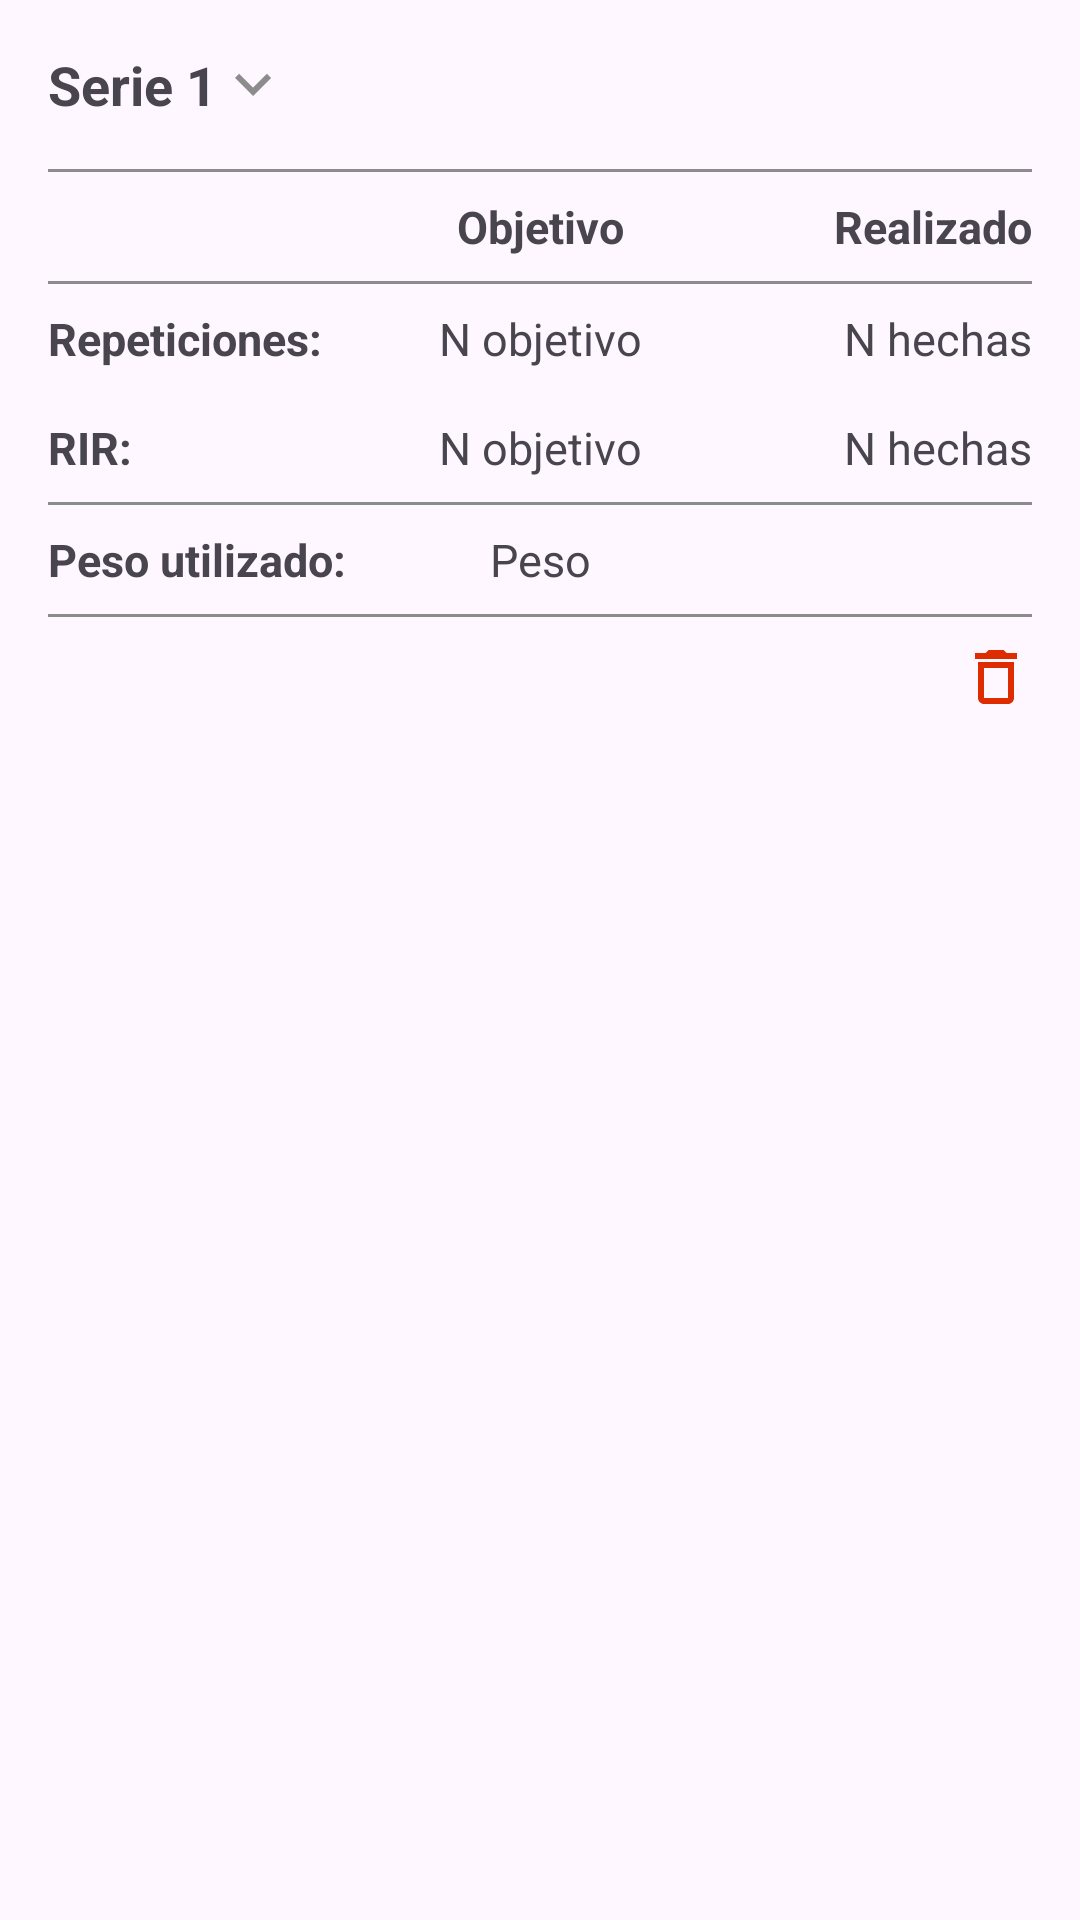

Point at icon controls on the screen. Image size 1080w x 1920h, points as (x,y).
Eliminar: (996,677)
